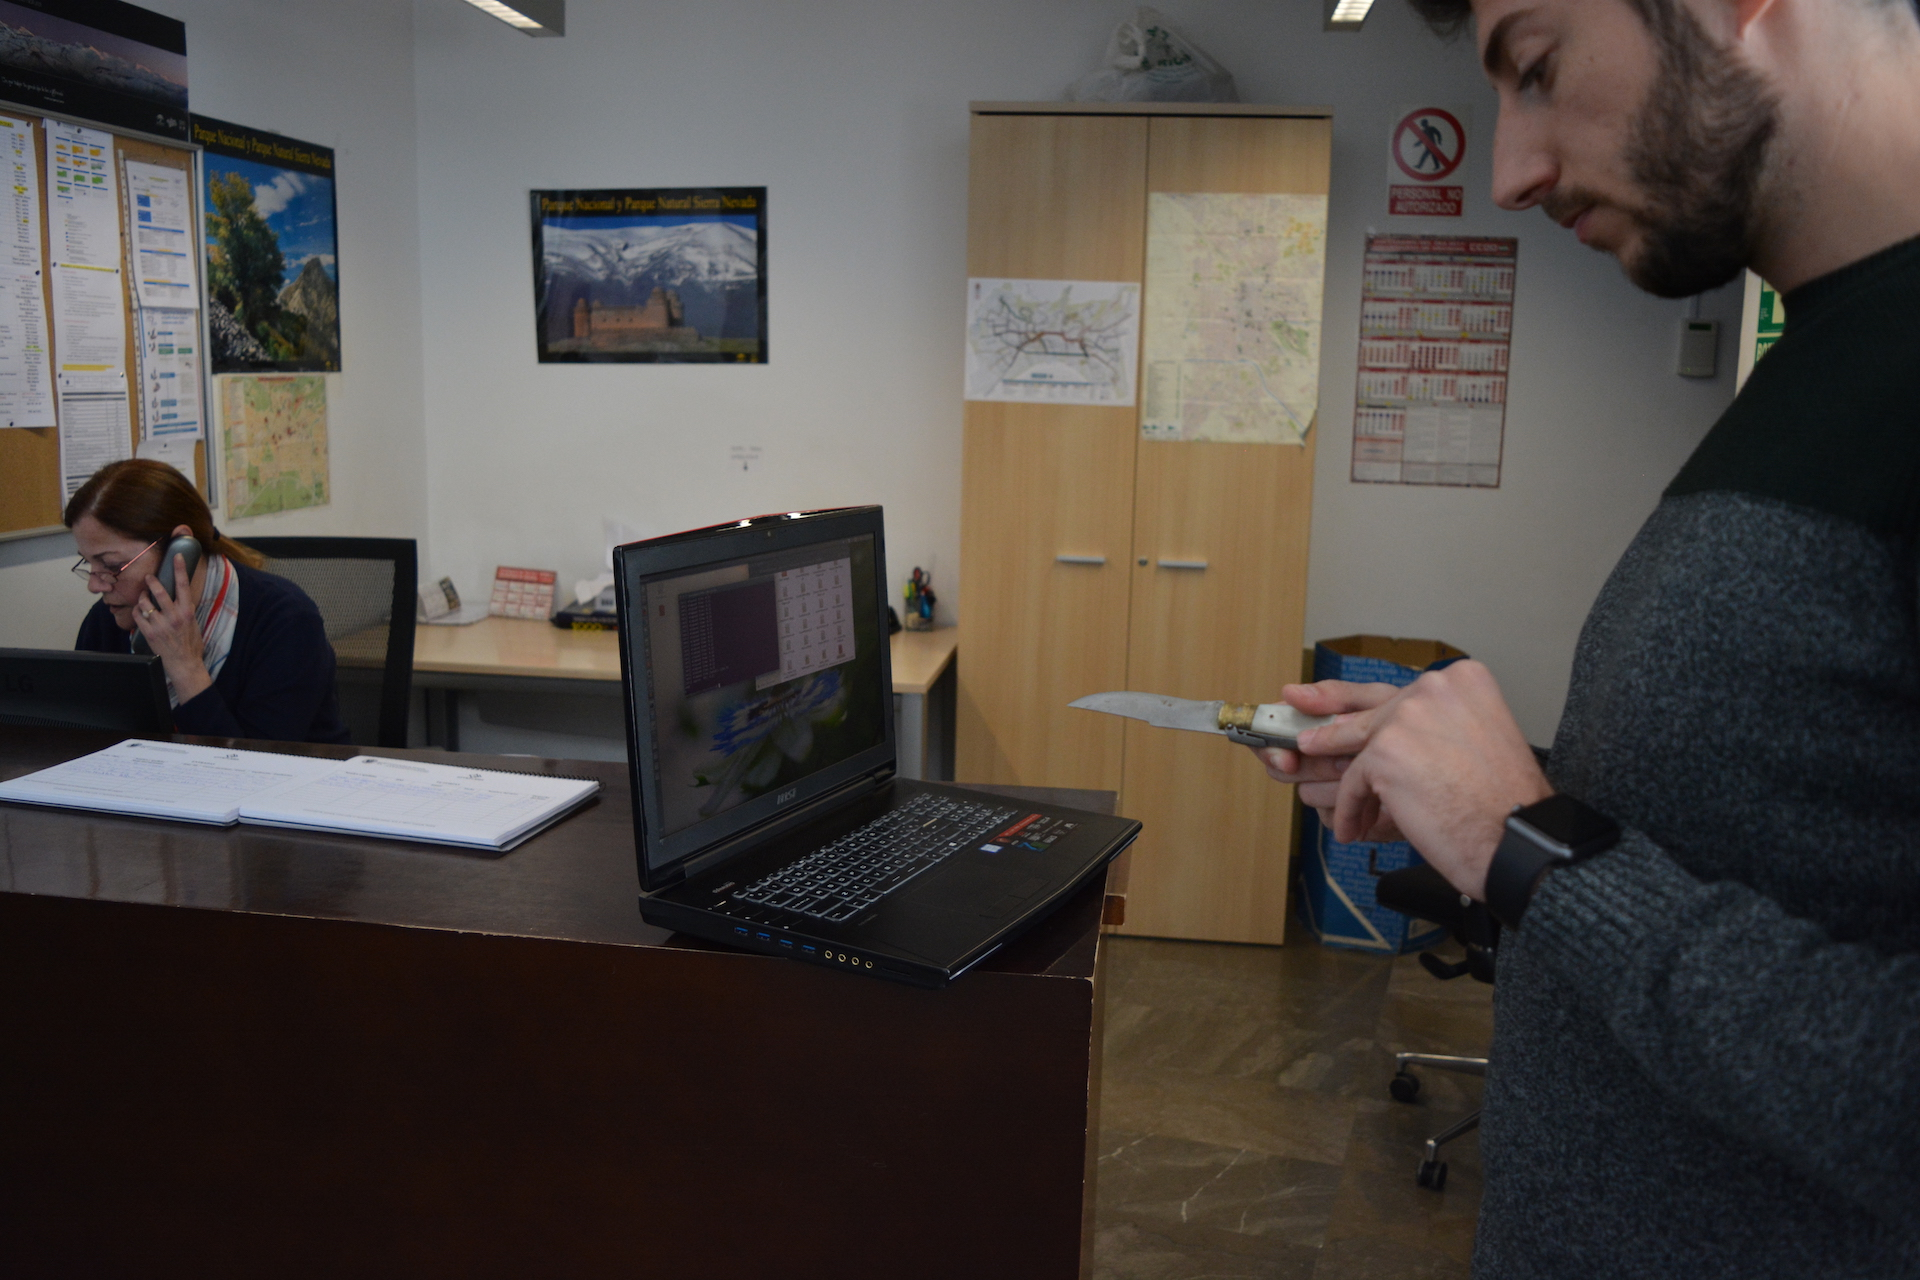knife: (1049, 667, 1344, 764)
